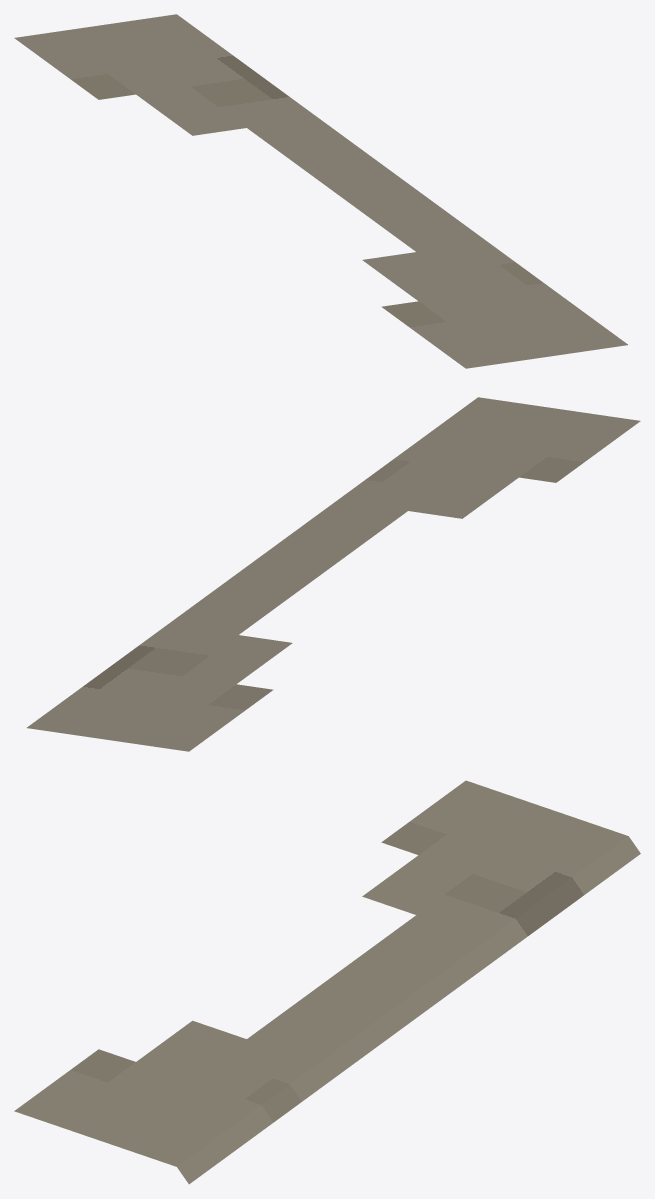
3 renders of one model, top to bottom at view 1: azimuth 30°, elevation 25°; view 2: azimuth 150°, elevation 25°; view 3: azimuth 330°, elevation 25°, orthographic.
Bounding box in the file's own units: 0.2236 × 0.0373 × 1.
1 material, 1 textured.
